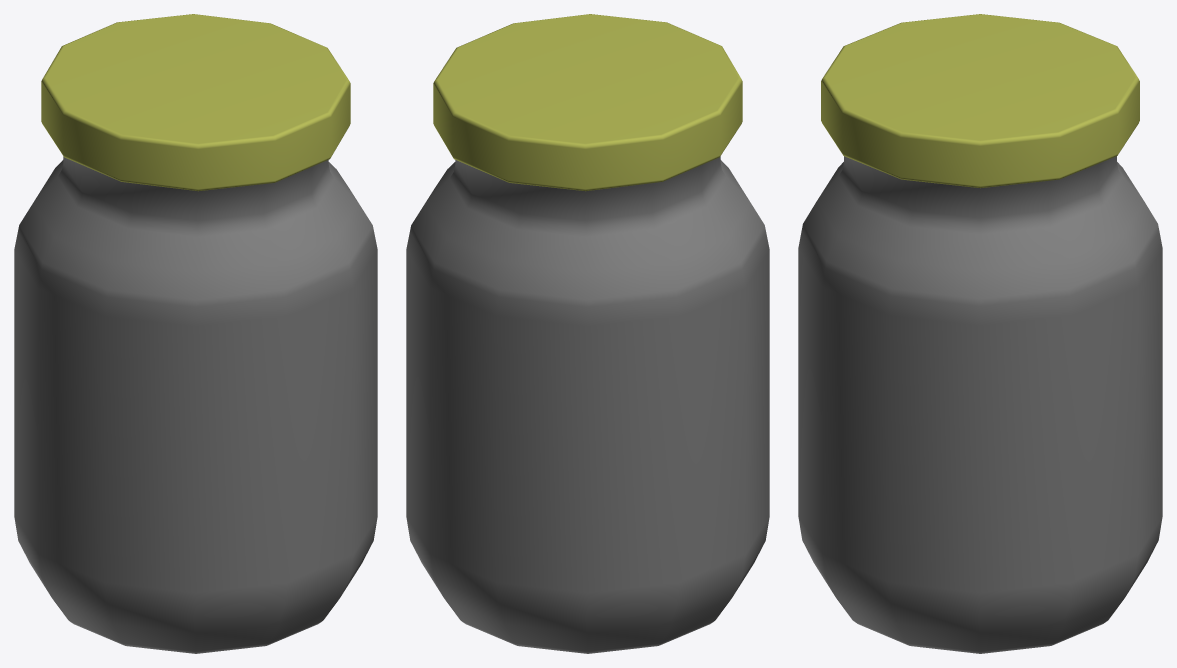
File: SM_Jar_3.fbx
3 views of the same model, side by side, from view 1: azimuth 30°, elevation 25°; view 2: azimuth 150°, elevation 25°; view 3: azimuth 270°, elevation 25° (orthographic).
Visible parts, largest first — view 1: pCylinder1; view 2: pCylinder1; view 3: pCylinder1.
Boxes of the visible parts, <box> form: pCylinder1: <box>14,14,377,653</box>; pCylinder1: <box>406,14,769,653</box>; pCylinder1: <box>798,14,1162,653</box>.
Bounding box in the file's own units: 0.2451 × 0.3847 × 0.2451.
